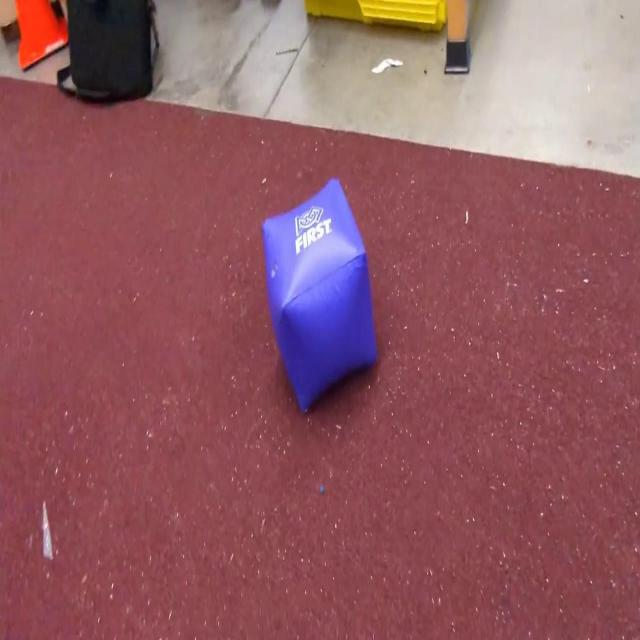frc_cube: (260, 173, 380, 415)
